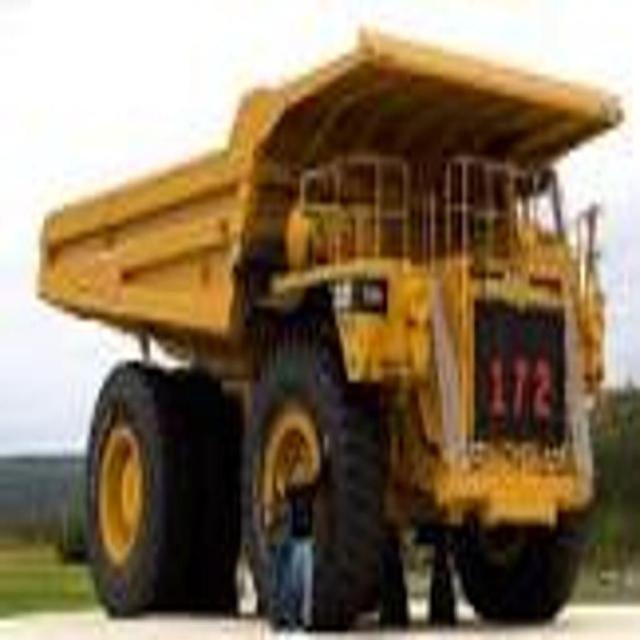dump_truck: (37, 21, 622, 640)
